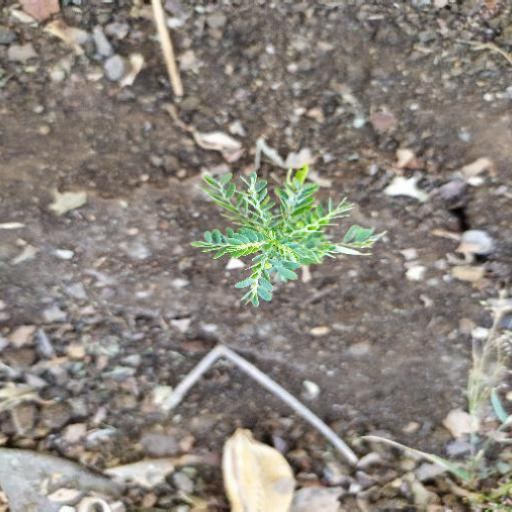weed: (176, 157, 393, 325)
